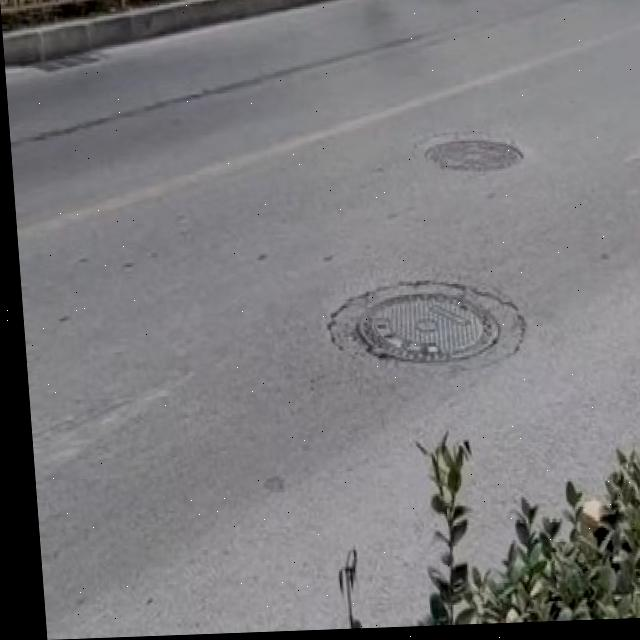manhole: (319, 270, 520, 380)
